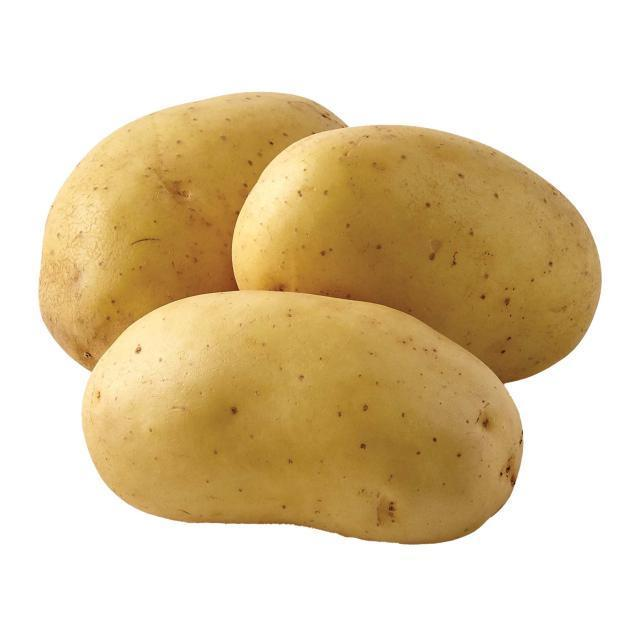potato: (77, 284, 527, 555), (228, 119, 596, 385), (31, 85, 351, 373)
